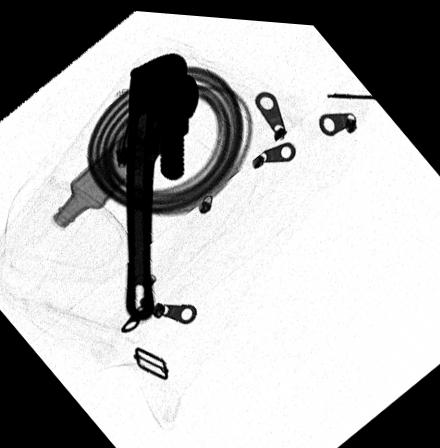Wrench: (126, 49, 203, 320)
